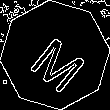M_NE: (21, 21, 89, 89)
